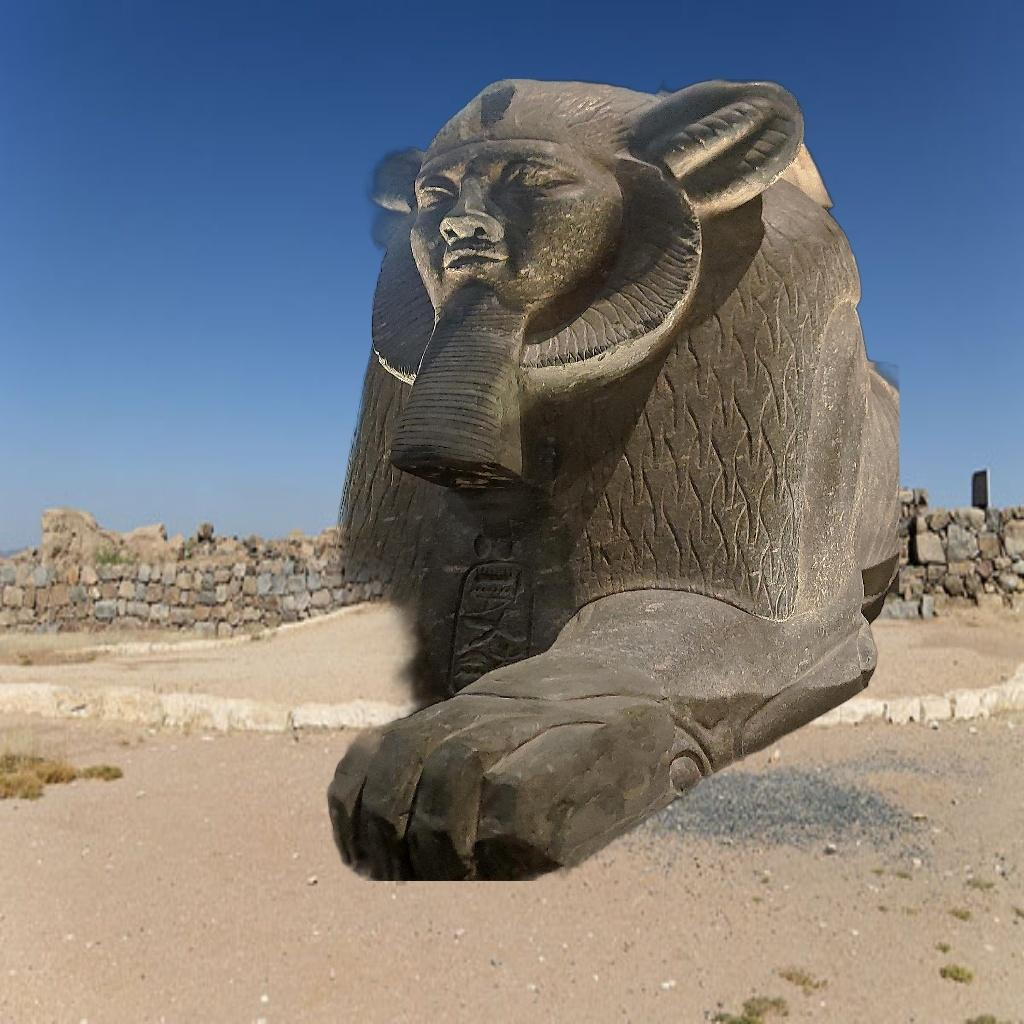Sphinx of Amenmhat III: (252, 80, 900, 880)
